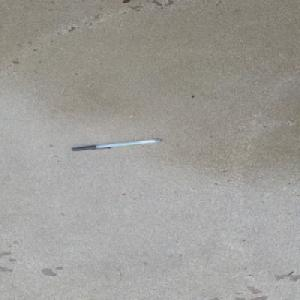Pen: (70, 137, 162, 151)
